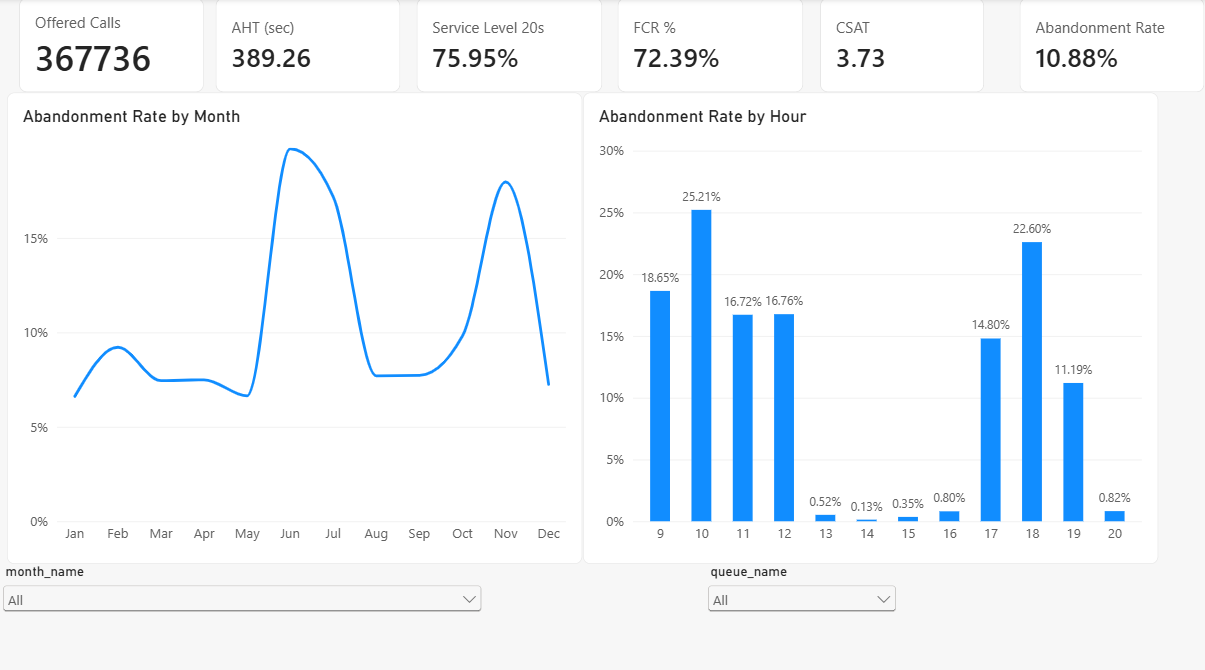

What the dashboard file says about the page in this screenshot:
{"tool":"powerbi","page":{"name":"Overview","canvas":[1280,720],"ordinal":0},"visuals":[{"type":"cardVisual","fields":{"Data":["_Measures.Offered Calls"]},"box":[21.7,0,196,100],"z":0},{"type":"cardVisual","fields":{"Data":["_Measures.AHT (sec)"]},"box":[230,0,196,100],"z":1000},{"type":"cardVisual","fields":{"Data":["_Measures.FCR %"]},"box":[656.7,0,197,100],"z":2000},{"type":"cardVisual","fields":{"Data":["_Measures.CSAT"]},"box":[871.7,0,174,100],"z":3000},{"type":"cardVisual","fields":{"Data":["_Measures.Abandonment Rate"]},"box":[1083.3,0,196,100],"z":4000},{"type":"cardVisual","fields":{"Data":["_Measures.Service Level 20s"]},"box":[443.3,0,197,100],"z":5000},{"type":"lineChart","title":"Abandonment Rate by Month","fields":{"Category":["dim_date.month_name"],"Y":["_Measures.Abandonment Rate"]},"box":[10,100,610,500],"z":6000},{"type":"clusteredColumnChart","title":"Abandonment Rate by Hour","fields":{"Category":["fact_calls.call_hour"],"Y":["_Measures.Abandonment Rate"]},"box":[620,100,610,500],"z":7000},{"type":"slicer","fields":{"Values":["dim_queue.queue_name"]},"box":[748.3,600,209.4,58.2],"z":8000},{"type":"slicer","fields":{"Values":["dim_date.month_name"]},"box":[0,600,517.7,83.5],"z":9000}]}

Visuals, with their boxes in screenshot pixels (x1, y1, x2, y2), scaled from the page's 1280x720 canvas onto the 1205x670 screenshot:
cardVisual - _Measures.Offered Calls: pyautogui.locateOnScreen(20, 0, 205, 93)
cardVisual - _Measures.AHT (sec): pyautogui.locateOnScreen(217, 0, 401, 93)
cardVisual - _Measures.FCR %: pyautogui.locateOnScreen(618, 0, 804, 93)
cardVisual - _Measures.CSAT: pyautogui.locateOnScreen(821, 0, 984, 93)
cardVisual - _Measures.Abandonment Rate: pyautogui.locateOnScreen(1020, 0, 1204, 93)
cardVisual - _Measures.Service Level 20s: pyautogui.locateOnScreen(417, 0, 603, 93)
"Abandonment Rate by Month" lineChart: pyautogui.locateOnScreen(9, 93, 584, 558)
"Abandonment Rate by Hour" clusteredColumnChart: pyautogui.locateOnScreen(584, 93, 1158, 558)
slicer - dim_queue.queue_name: pyautogui.locateOnScreen(704, 558, 902, 612)
slicer - dim_date.month_name: pyautogui.locateOnScreen(0, 558, 487, 636)
